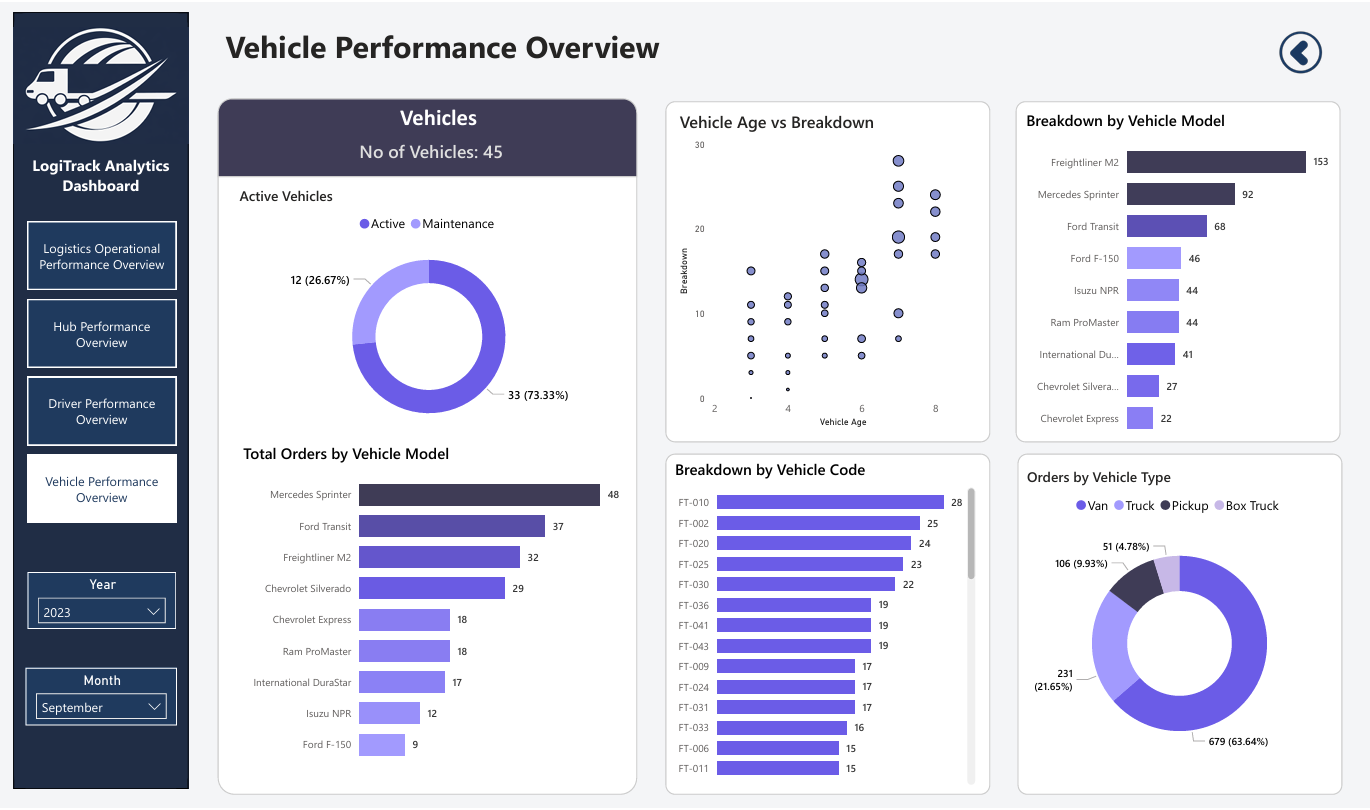

Layout of this report page (visuals, bound fields, positions):
{"tool":"powerbi","page":{"name":"Vehicle Performance Overview","canvas":[1450,850],"ordinal":3},"visuals":[{"type":"shape","box":[15,10,185,820],"z":0},{"type":"textbox","box":[234,18,814,70],"z":1000},{"type":"slicer","title":"Month","fields":{"Values":["Date Table.Month"]},"box":[28.3,701.7,160,61.7],"z":2000},{"type":"textbox","box":[22.2,155.6,171.1,73.3],"z":3000},{"type":"image","box":[15,10,185,155],"z":4000},{"type":"shape","box":[704.3,104.3,342.9,360],"z":5000},{"type":"shape","box":[231.4,101.4,442.9,734.3],"z":6000},{"type":"shape","box":[231.4,101.4,442.9,82.9],"z":7000},{"type":"textbox","box":[348.3,100.8,242.5,47.5],"z":8000},{"type":"cardVisual","fields":{"Data":["Vehicles.No of Vehicles"]},"box":[308.6,108.6,295.7,92.9],"z":9000},{"type":"donutChart","title":"Active Vehicles","fields":{"Category":["Vehicles.Vehicle Status"],"Y":["CountNonNull(Vehicles.Vehicle ID)"]},"box":[248.6,192.9,410,270],"z":10000},{"type":"barChart","fields":{"Category":["Vehicles.Vehicle Model"],"Y":["Orders.Total Orders"]},"box":[253.3,465,410,348.3],"z":11000},{"type":"image","box":[1330,17.1,88.6,74.3],"z":12000},{"type":"shape","box":[1074.3,104.3,342.9,360],"z":13000},{"type":"scatterChart","title":"Vehicle Age vs Breakdown","fields":{"X":["Vehicles.Vehicle Age"],"Y":["Vehicles.Breakdown"],"Size":["Sum(Vehicles.Breakdown)1"]},"box":[713.8,112.5,322.5,340],"z":14000},{"type":"shape","box":[704.3,475.7,342.9,360],"z":15000},{"type":"barChart","title":"Breakdown by Vehicle Code","fields":{"Category":["Vehicles.Vehicle Code"],"Y":["Sum(Vehicles.Breakdown)"]},"box":[708.9,482.2,326.7,347.8],"z":16000},{"type":"barChart","title":"Breakdown by Vehicle Model","fields":{"Category":["Vehicles.Vehicle Model"],"Y":["Sum(Vehicles.Breakdown)"]},"box":[1080,112.5,332.5,356.2],"z":17000},{"type":"shape","box":[1075.7,475.7,342.9,360],"z":18000},{"type":"donutChart","title":"Orders by Vehicle Type","fields":{"Category":["Orders.Vehicle Type"],"Y":["Orders.Total Orders"]},"box":[1081.1,490,332.2,324.4],"z":19000},{"type":"pageNavigator","box":[30,231.4,157.1,321.4],"z":20000},{"type":"slicer","title":"Year","fields":{"Values":["Date Table.Year"]},"box":[30,601.4,157.1,60],"z":21000}]}

Visuals, with their boxes in screenshot pixels (x1, y1, x2, y2), scaled from the page's 1450x850 canvas onto the 1370x810 screenshot:
shape: (left=14, top=10, right=189, bottom=791)
textbox: (left=221, top=17, right=990, bottom=84)
"Month" slicer: (left=27, top=669, right=178, bottom=727)
textbox: (left=21, top=148, right=183, bottom=218)
image: (left=14, top=10, right=189, bottom=157)
shape: (left=665, top=99, right=989, bottom=442)
shape: (left=219, top=97, right=637, bottom=796)
shape: (left=219, top=97, right=637, bottom=176)
textbox: (left=329, top=96, right=558, bottom=141)
cardVisual - Vehicles.No of Vehicles: (left=292, top=103, right=571, bottom=192)
"Active Vehicles" donutChart: (left=235, top=184, right=622, bottom=441)
barChart - Vehicles.Vehicle Model x Orders.Total Orders: (left=239, top=443, right=627, bottom=775)
image: (left=1257, top=16, right=1340, bottom=87)
shape: (left=1015, top=99, right=1339, bottom=442)
"Vehicle Age vs Breakdown" scatterChart: (left=674, top=107, right=979, bottom=431)
shape: (left=665, top=453, right=989, bottom=796)
"Breakdown by Vehicle Code" barChart: (left=670, top=460, right=978, bottom=791)
"Breakdown by Vehicle Model" barChart: (left=1020, top=107, right=1335, bottom=447)
shape: (left=1016, top=453, right=1340, bottom=796)
"Orders by Vehicle Type" donutChart: (left=1021, top=467, right=1335, bottom=776)
pageNavigator: (left=28, top=221, right=177, bottom=527)
"Year" slicer: (left=28, top=573, right=177, bottom=630)
